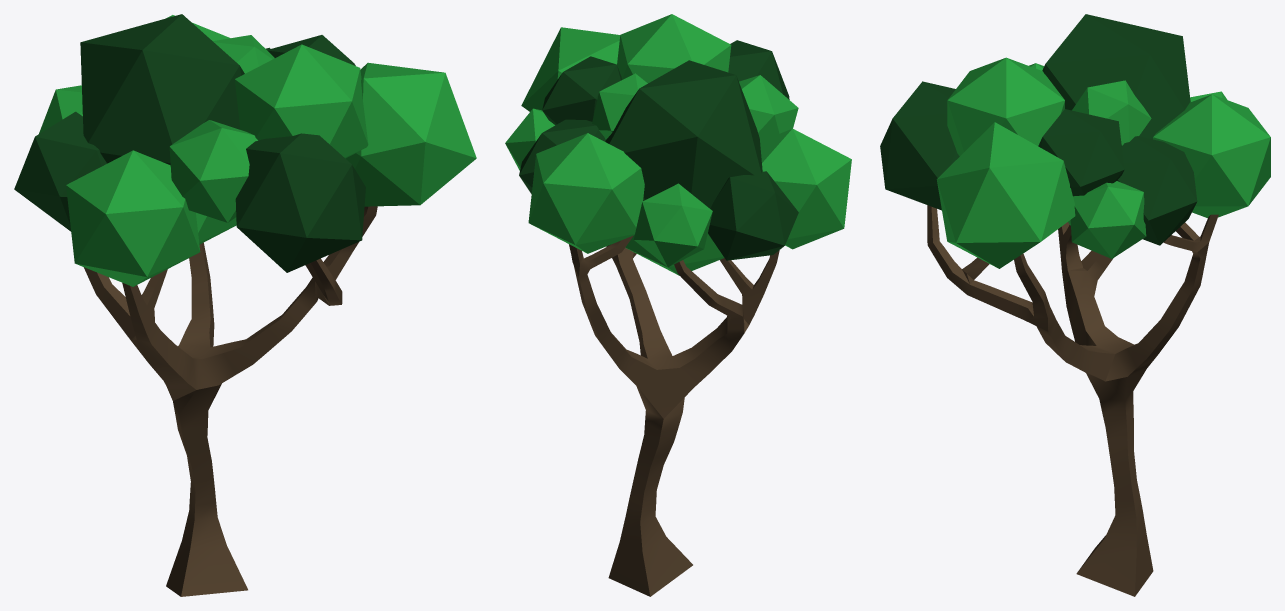
The model's file is oak.gltf.
The picture shows the model from 3 angles, left to right: view 1: azimuth 30°, elevation 25°; view 2: azimuth 150°, elevation 25°; view 3: azimuth 270°, elevation 25°; orthographic projection. The views are drawn at different scales.
Visible parts, largest first — view 1: Plane_2, Icosphere.001_4, Icosphere.005_8, Icosphere.002_5, Icosphere_3, Icosphere.008_11, Icosphere.009_12, Icosphere.014_17, Icosphere.007_10, Icosphere.004_7, Icosphere.010_13, Icosphere.012_15; view 2: Plane_2, Icosphere.001_4, Icosphere.003_6, Icosphere_3, Icosphere.014_17, Icosphere.008_11, Icosphere.004_7, Icosphere.010_13, Icosphere.002_5, Icosphere.009_12, Icosphere.005_8, Icosphere.006_9 (+3 smaller); view 3: Plane_2, Icosphere.002_5, Icosphere.001_4, Icosphere.003_6, Icosphere.008_11, Icosphere.005_8, Icosphere.006_9, Icosphere.010_13, Icosphere.013_16, Icosphere.007_10.
Boxes of the visible parts, left/top/right/bottom form: Plane_2: left=84, top=206, right=377, bottom=596; Icosphere.001_4: left=80, top=14, right=244, bottom=165; Icosphere.005_8: left=235, top=133, right=365, bottom=272; Icosphere.002_5: left=345, top=62, right=476, bottom=206; Icosphere_3: left=66, top=150, right=200, bottom=286; Icosphere.008_11: left=234, top=44, right=368, bottom=158; Icosphere.009_12: left=169, top=120, right=257, bottom=222; Icosphere.014_17: left=14, top=111, right=106, bottom=231; Icosphere.007_10: left=213, top=35, right=274, bottom=73; Icosphere.004_7: left=39, top=85, right=82, bottom=133; Icosphere.010_13: left=267, top=35, right=355, bottom=65; Icosphere.012_15: left=196, top=212, right=236, bottom=244; Plane_2: left=569, top=235, right=779, bottom=596; Icosphere.001_4: left=605, top=60, right=762, bottom=208; Icosphere.003_6: left=528, top=133, right=644, bottom=253; Icosphere_3: left=760, top=128, right=851, bottom=249; Icosphere.014_17: left=708, top=171, right=798, bottom=260; Icosphere.008_11: left=617, top=14, right=731, bottom=83; Icosphere.004_7: left=633, top=183, right=712, bottom=267; Icosphere.010_13: left=542, top=56, right=621, bottom=125; Icosphere.002_5: left=521, top=27, right=620, bottom=111; Icosphere.009_12: left=739, top=75, right=798, bottom=141; Icosphere.005_8: left=728, top=40, right=789, bottom=99; Icosphere.006_9: left=519, top=119, right=605, bottom=193; Plane_2: left=927, top=205, right=1218, bottom=596; Icosphere.002_5: left=936, top=122, right=1075, bottom=268; Icosphere.001_4: left=1042, top=14, right=1190, bottom=139; Icosphere.003_6: left=1153, top=94, right=1270, bottom=218; Icosphere.008_11: left=947, top=57, right=1064, bottom=156; Icosphere.005_8: left=880, top=81, right=959, bottom=210; Icosphere.006_9: left=1117, top=136, right=1197, bottom=245; Icosphere.010_13: left=1038, top=109, right=1124, bottom=196; Icosphere.013_16: left=1070, top=181, right=1146, bottom=258; Icosphere.007_10: left=1072, top=80, right=1151, bottom=146.
Size of the model in its own units: 5.55 by 8.58 by 5.64.
